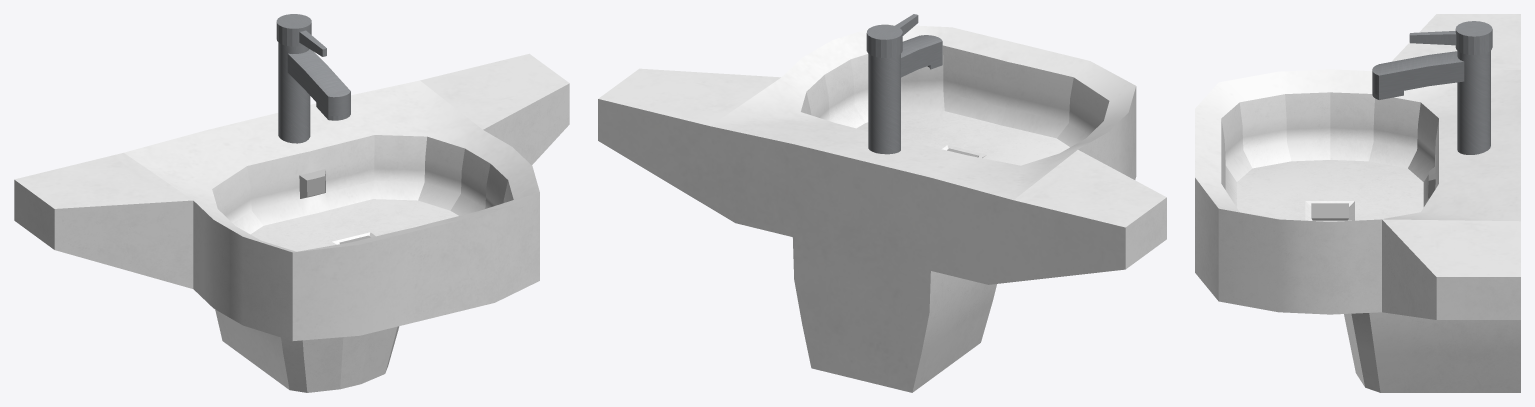
The model's file is Basin.fbx.
3 views of the same model, side by side, from view 1: azimuth 30°, elevation 25°; view 2: azimuth 150°, elevation 25°; view 3: azimuth 270°, elevation 25° (orthographic). The views are drawn at different scales.
Visible parts, largest first — view 1: Basin, Tap2; view 2: Basin, Tap2; view 3: Basin, Tap2.
Part boxes in pixels (left/top/right/bottom): Basin: left=14, top=53, right=569, bottom=392; Tap2: left=276, top=14, right=350, bottom=143; Basin: left=598, top=24, right=1166, bottom=392; Tap2: left=866, top=14, right=942, bottom=154; Basin: left=1195, top=14, right=1520, bottom=392; Tap2: left=1372, top=21, right=1492, bottom=154.
Size of the model in its own units: 1.4 by 0.8405 by 0.7322.
